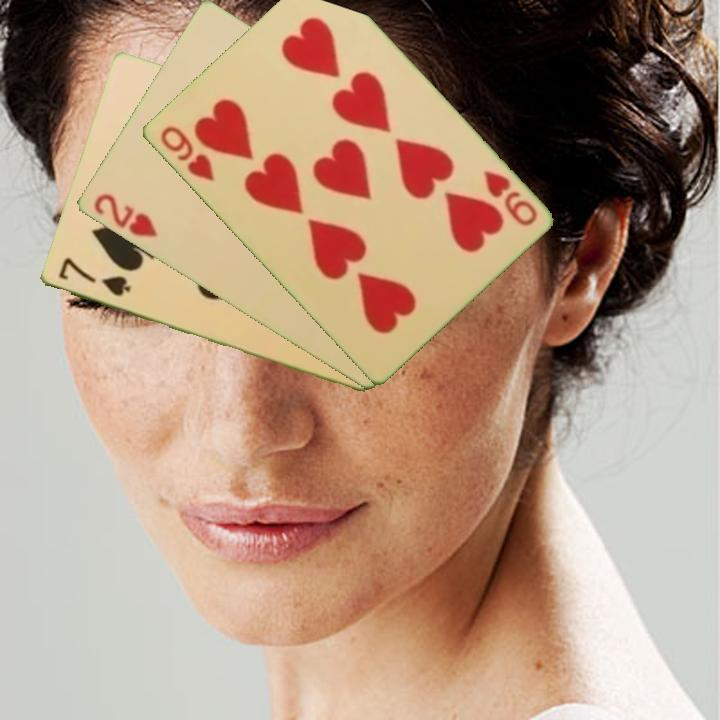2h: (89, 190, 161, 241)
7s: (54, 254, 133, 300)
9h: (479, 167, 540, 230), (156, 122, 217, 184)
